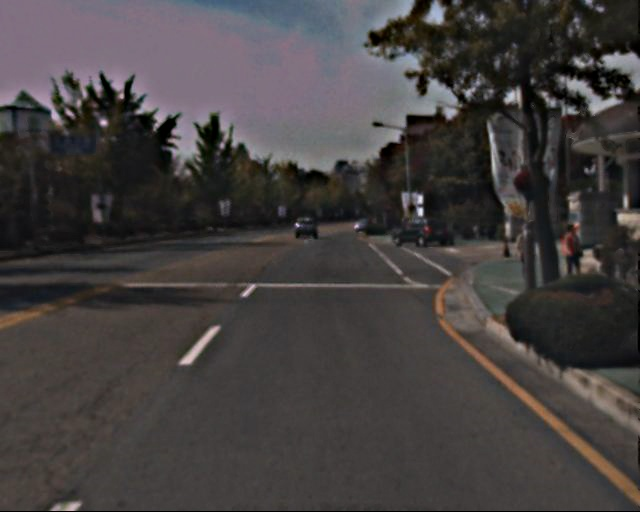person: (558, 220, 585, 286), (513, 225, 538, 286)
